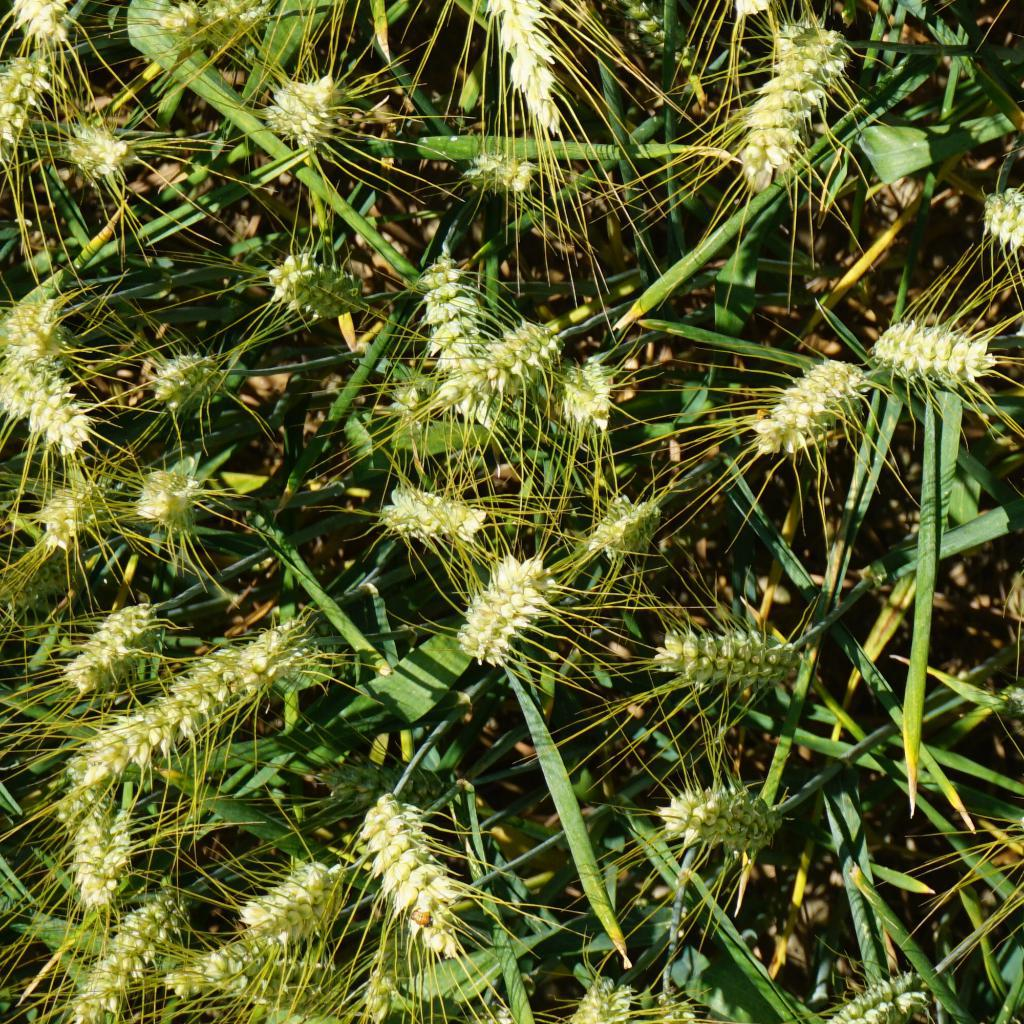0-0: (740, 18, 840, 195), (453, 551, 582, 688), (98, 656, 237, 780), (348, 788, 463, 931), (457, 0, 567, 132), (291, 749, 474, 818), (647, 603, 793, 688), (862, 311, 1004, 396), (758, 356, 861, 464), (418, 244, 493, 387), (78, 905, 167, 1020), (264, 239, 374, 328), (652, 779, 784, 851), (237, 848, 339, 941), (457, 320, 546, 425), (67, 601, 153, 698), (52, 810, 144, 899), (815, 963, 943, 1024), (263, 72, 351, 157), (237, 605, 311, 705), (11, 376, 95, 460), (140, 344, 237, 416), (127, 462, 216, 538), (384, 479, 475, 544), (556, 355, 623, 443), (972, 177, 1024, 288), (259, 951, 345, 1018), (614, 0, 694, 69), (39, 490, 113, 564), (0, 50, 48, 163), (182, 935, 254, 1002), (155, 0, 267, 42), (464, 149, 546, 205), (588, 496, 655, 564), (64, 119, 132, 183), (4, 307, 76, 359), (576, 968, 640, 1024), (1, 0, 76, 42), (715, 0, 782, 27), (1001, 685, 1024, 732)
